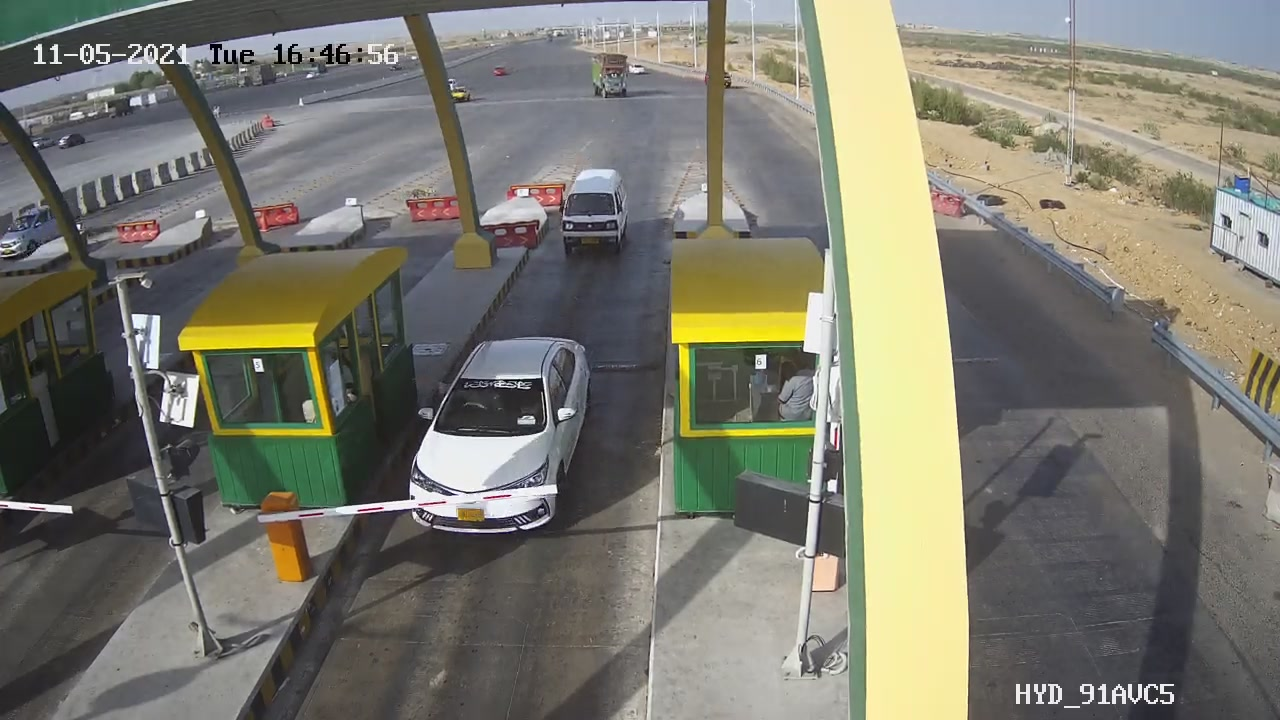F1: (391, 320, 606, 555), (541, 156, 648, 273)
